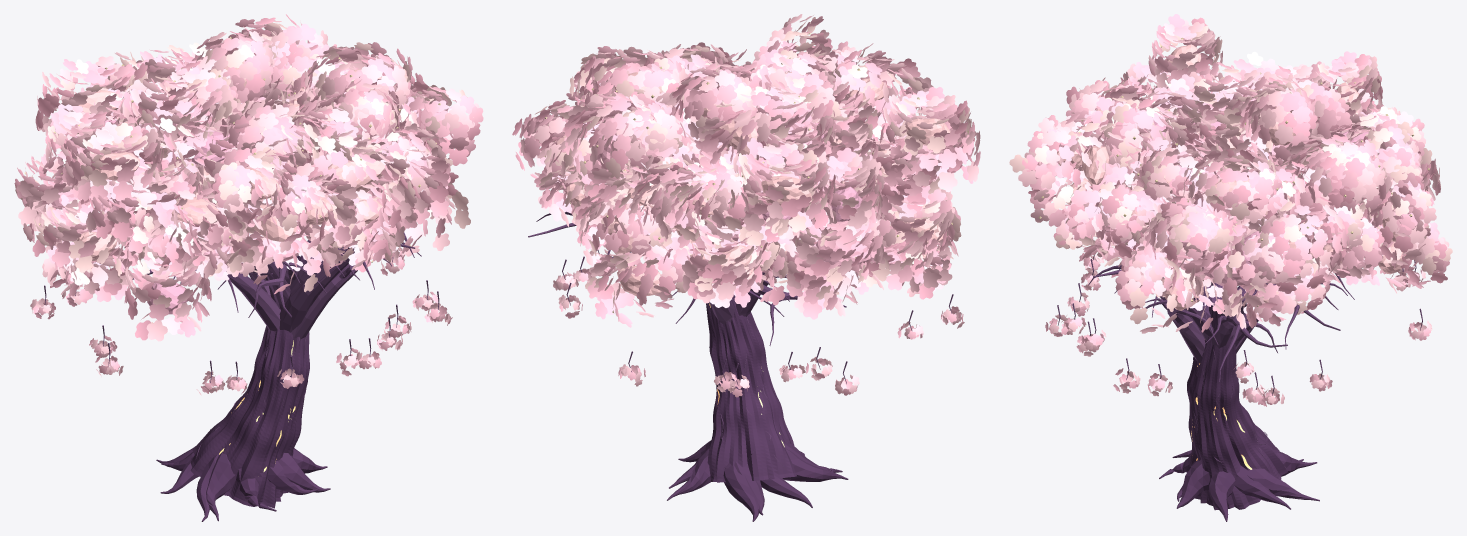
3 renders of one model, left to right at view 1: azimuth 30°, elevation 25°; view 2: azimuth 150°, elevation 25°; view 3: azimuth 270°, elevation 25°, orthographic. The views are drawn at different scales.
Parts seen in each view (by area): view 1: Sakura_petal_pink, Sakura_petal_blush, Sakura_petal_warm_rose, Sakura_petal_cream, Trunk_bark_plumblack, Branches_plum, Canopy_peach, Canopy_depth_rose, Canopy_rose; view 2: Sakura_petal_pink, Sakura_petal_blush, Sakura_petal_warm_rose, Sakura_petal_cream, Trunk_bark_plumblack, Canopy_peach, Branches_plum, Canopy_rose; view 3: Sakura_petal_pink, Sakura_petal_blush, Sakura_petal_warm_rose, Sakura_petal_cream, Trunk_bark_plumblack, Branches_plum, Canopy_peach, Canopy_rose.
Part boxes in pixels (left/top/right/bottom): Sakura_petal_pink: left=16, top=19, right=483, bottom=394; Sakura_petal_blush: left=17, top=20, right=482, bottom=395; Sakura_petal_warm_rose: left=14, top=14, right=480, bottom=340; Sakura_petal_cream: left=15, top=22, right=470, bottom=323; Trunk_bark_plumblack: left=156, top=249, right=354, bottom=521; Branches_plum: left=44, top=232, right=439, bottom=458; Canopy_peach: left=77, top=61, right=397, bottom=271; Canopy_depth_rose: left=70, top=119, right=415, bottom=314; Canopy_rose: left=51, top=102, right=447, bottom=262; Sakura_petal_pink: left=519, top=16, right=980, bottom=397; Sakura_petal_blush: left=520, top=14, right=980, bottom=394; Sakura_petal_warm_rose: left=512, top=22, right=974, bottom=319; Sakura_petal_cream: left=535, top=17, right=971, bottom=308; Trunk_bark_plumblack: left=667, top=295, right=848, bottom=521; Canopy_peach: left=554, top=67, right=950, bottom=295; Branches_plum: left=528, top=211, right=953, bottom=468; Canopy_rose: left=596, top=111, right=941, bottom=266; Sakura_petal_pink: left=1027, top=25, right=1449, bottom=406; Sakura_petal_blush: left=1018, top=17, right=1449, bottom=404; Sakura_petal_warm_rose: left=1022, top=14, right=1447, bottom=332; Sakura_petal_cream: left=1009, top=25, right=1452, bottom=324; Trunk_bark_plumblack: left=1159, top=298, right=1319, bottom=521; Branches_plum: left=1057, top=255, right=1422, bottom=462; Canopy_peach: left=1057, top=44, right=1402, bottom=310; Canopy_rose: left=1104, top=92, right=1353, bottom=286.
Bounding box in the file's own units: 26.64 × 27.14 × 26.01.
